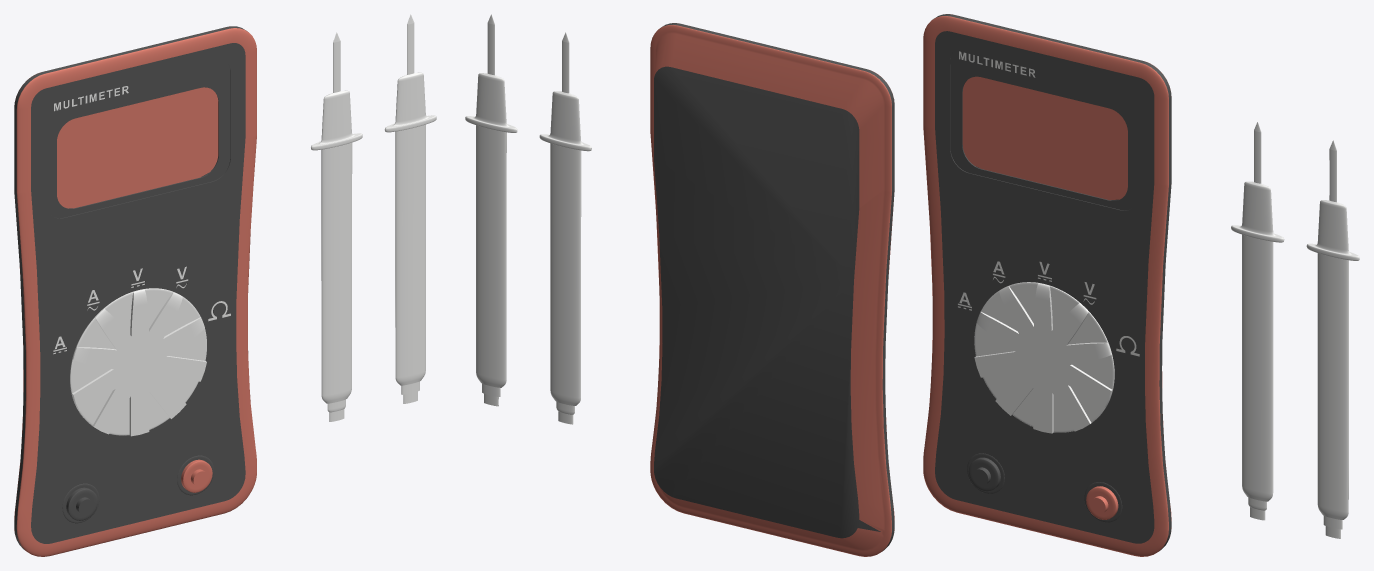
The model's file is tes export.fbx.
3 views of the same model, side by side, from view 1: azimuth 30°, elevation 25°; view 2: azimuth 150°, elevation 25°; view 3: azimuth 330°, elevation 25° (orthographic). The views are drawn at different scales.
Visible parts, largest first — view 1: Body1, Body27, Body28, Body23, Body24, Body22, Body25, Body15; view 2: Body1, Body27, Body28; view 3: Body1, Body28, Body27, Body23, Body22, Body24, Body15, Body25.
Part boxes in pixels (x1,y1,x2,y2): Body1: (14,26,256,556); Body27: (311,32,362,421); Body28: (384,14,436,403); Body23: (70,288,206,435); Body24: (70,288,206,435); Body22: (70,288,206,435); Body25: (70,288,206,434); Body15: (70,288,206,436); Body1: (650,23,894,556); Body27: (539,32,591,424); Body28: (465,14,517,406); Body1: (923,14,1171,556); Body28: (1306,140,1359,538); Body27: (1231,122,1284,520); Body23: (974,282,1114,432); Body22: (974,282,1114,432); Body24: (974,282,1114,432); Body15: (974,282,1114,433); Body25: (974,282,1114,432).
Size of the model in its own units: 127 by 138 by 12.18.
